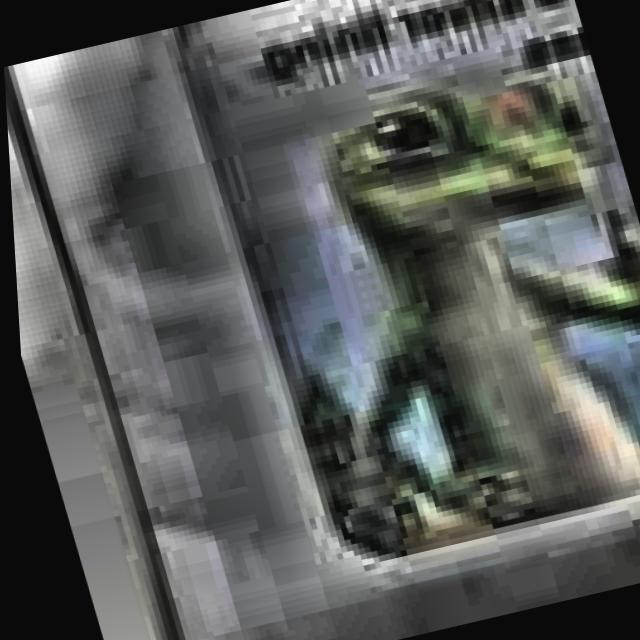paper: (3, 0, 640, 640)
